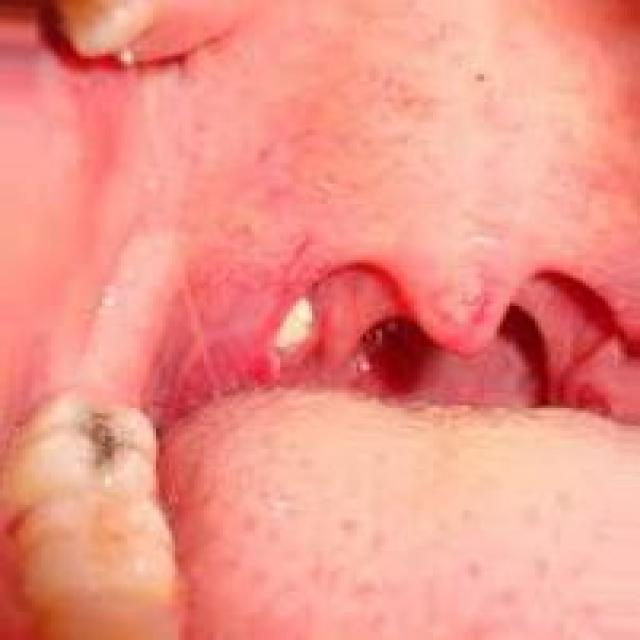caries: (56, 395, 157, 482)
